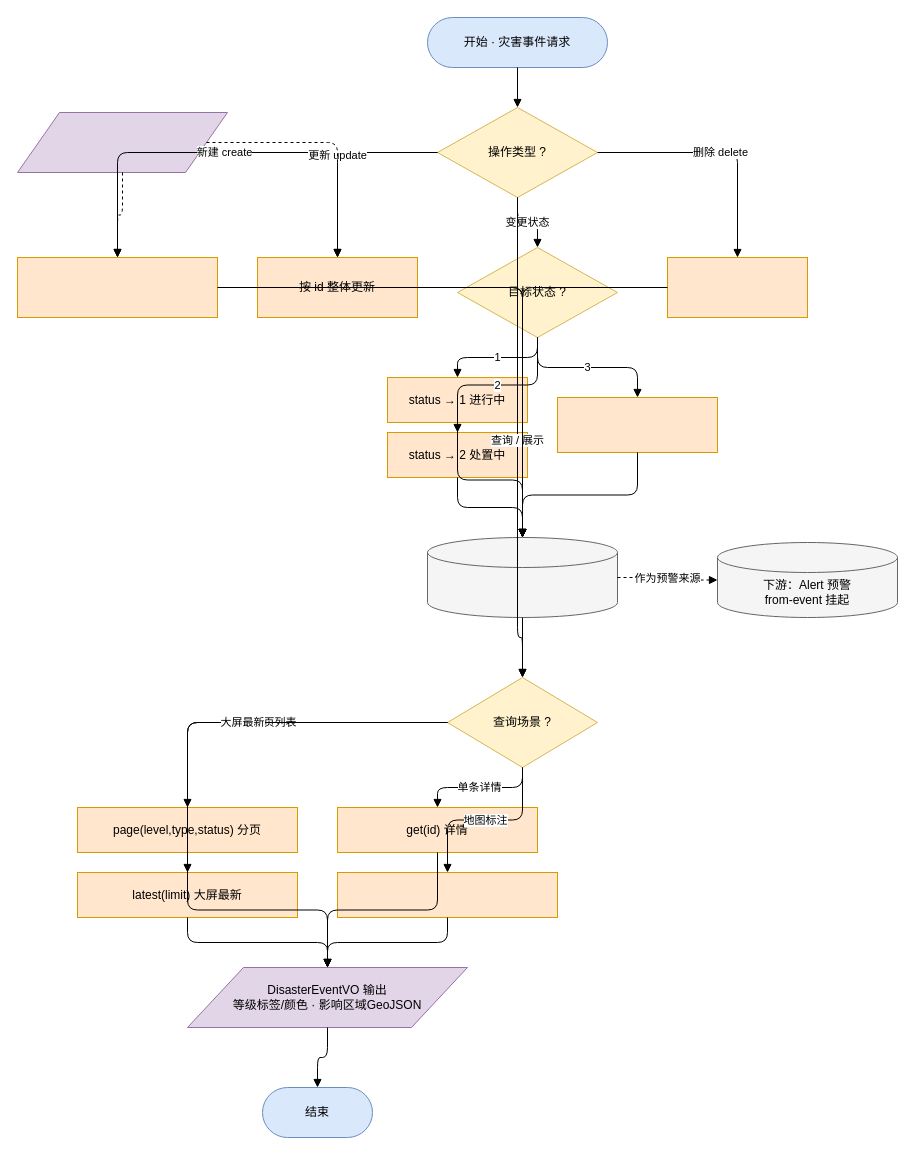
This 915x1155 diagram has some shape labels left out. The shapes that lost their labels are listed below. From the top down, each one's centre as x and y in pixels, then its label:
At pixel 122 142: "CreateDisasterEventDTO (写操作入参)".
At pixel 117 287: "校验入参 · 生成 code status 默认=1 进行中".
At pixel 737 287: "删除事件".
At pixel 637 424: "status → 3 已结束 (endAt 有意义)".
At pixel 522 577: "biz.biz_disaster_event 灾害事件实体表".
At pixel 447 895: "asGeoJson() 地图(含影响区域)".
